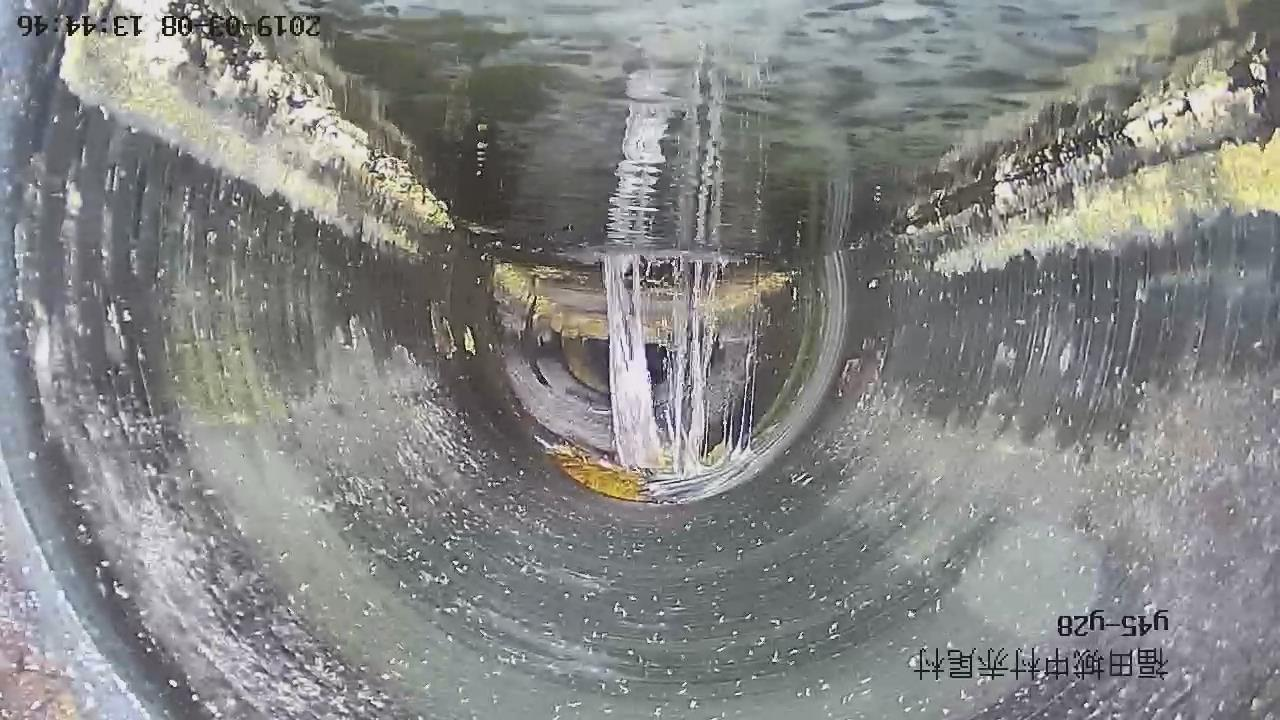JG: (18, 1, 457, 254), (890, 43, 1280, 275), (496, 260, 562, 330)
SL: (571, 227, 769, 490)
